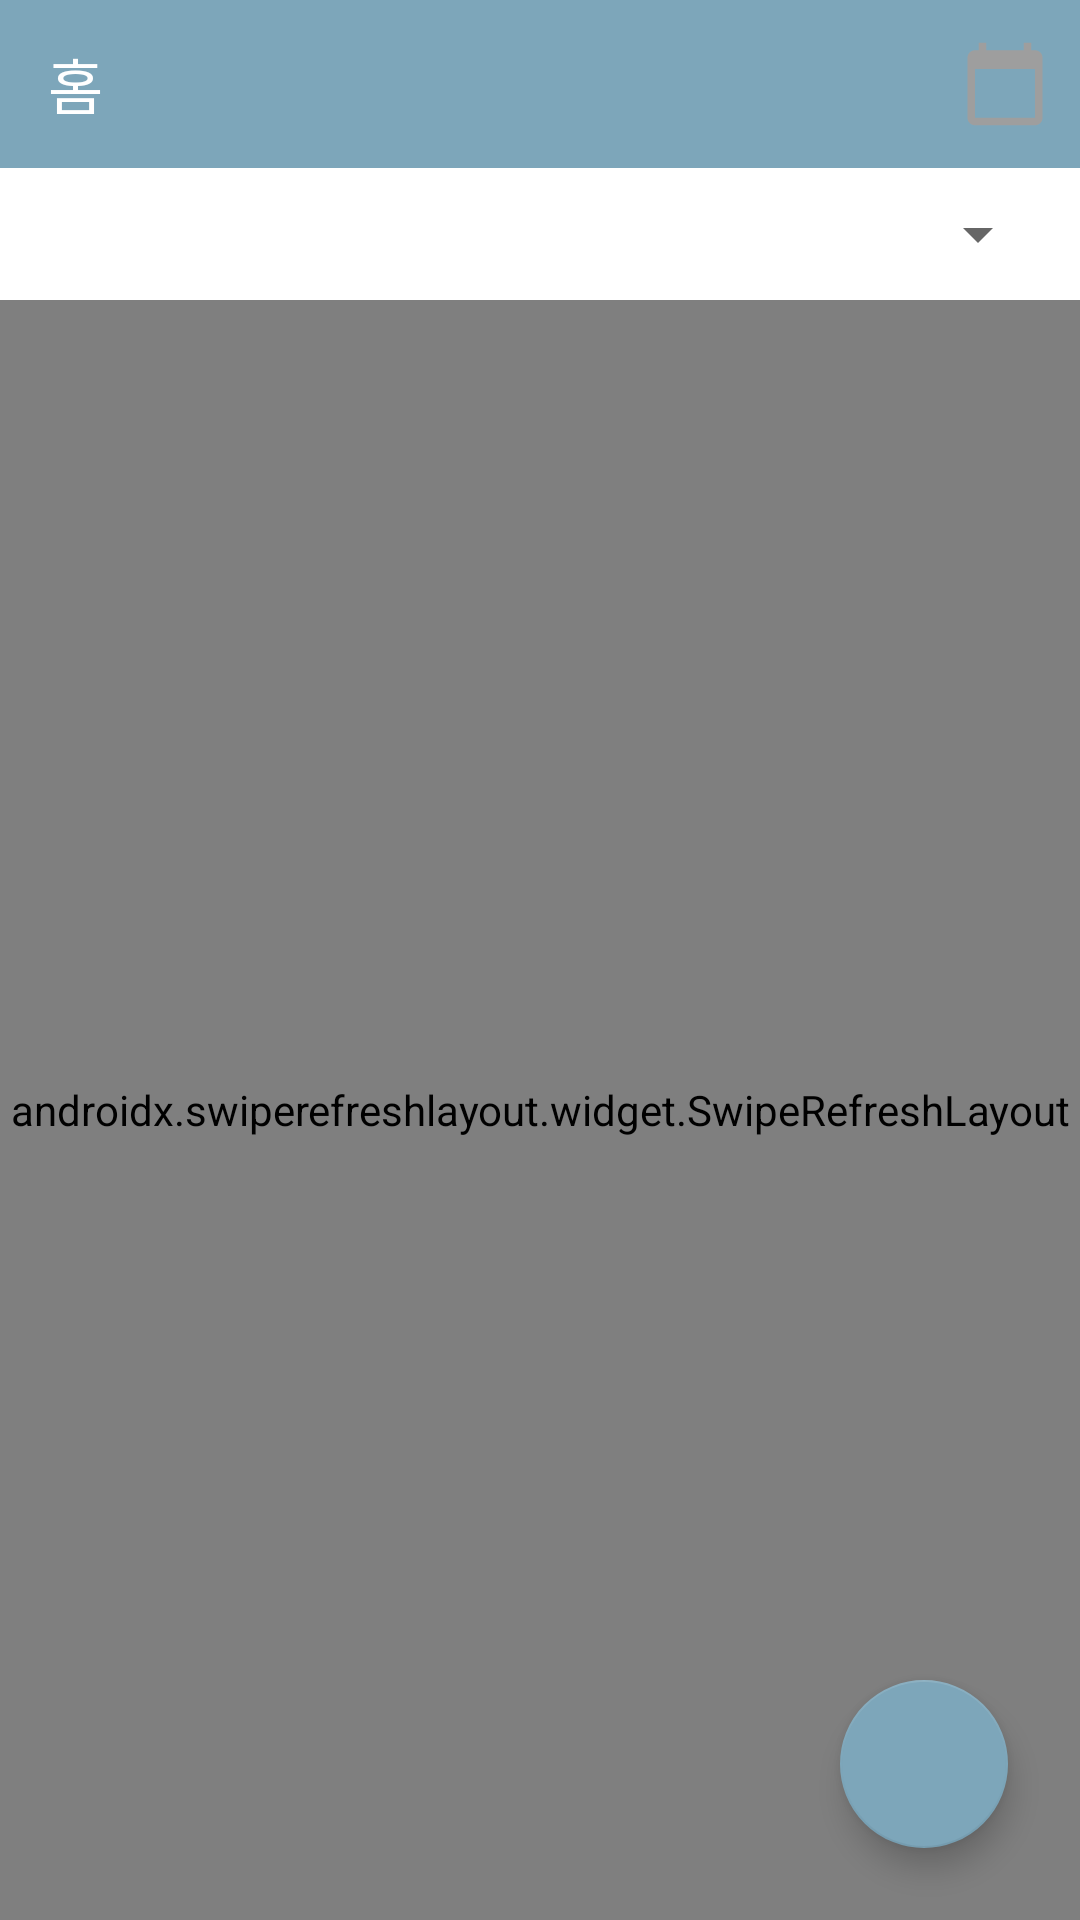

Where icons sit on this 1080px x 1920px app screen, as (x1, y1, x2, y2):
calendar today: (968, 43, 1042, 125)
